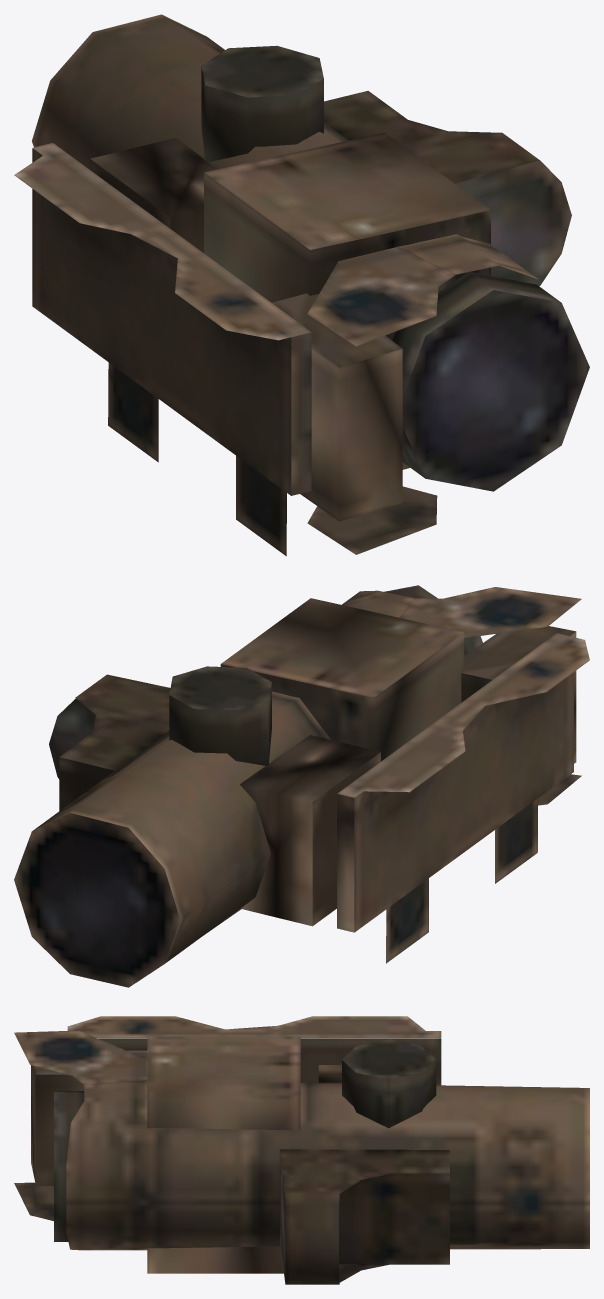
File: Pickup_WeaponMzj03.glb
The picture shows the model from 3 angles, top to bottom: view 1: azimuth 30°, elevation 25°; view 2: azimuth 150°, elevation 25°; view 3: azimuth 270°, elevation 25°; orthographic projection. The views are drawn at different scales.
Parts seen in each view (by area): view 1: pk_weapon_mzj03; view 2: pk_weapon_mzj03; view 3: pk_weapon_mzj03.
Part boxes in pixels (x1,y1,x2,y2): pk_weapon_mzj03: (14, 14, 589, 556); pk_weapon_mzj03: (14, 585, 589, 987); pk_weapon_mzj03: (14, 1016, 589, 1284).
Size of the model in its own units: 0.2008 by 0.1202 by 0.2931.
1 material, 1 textured.
